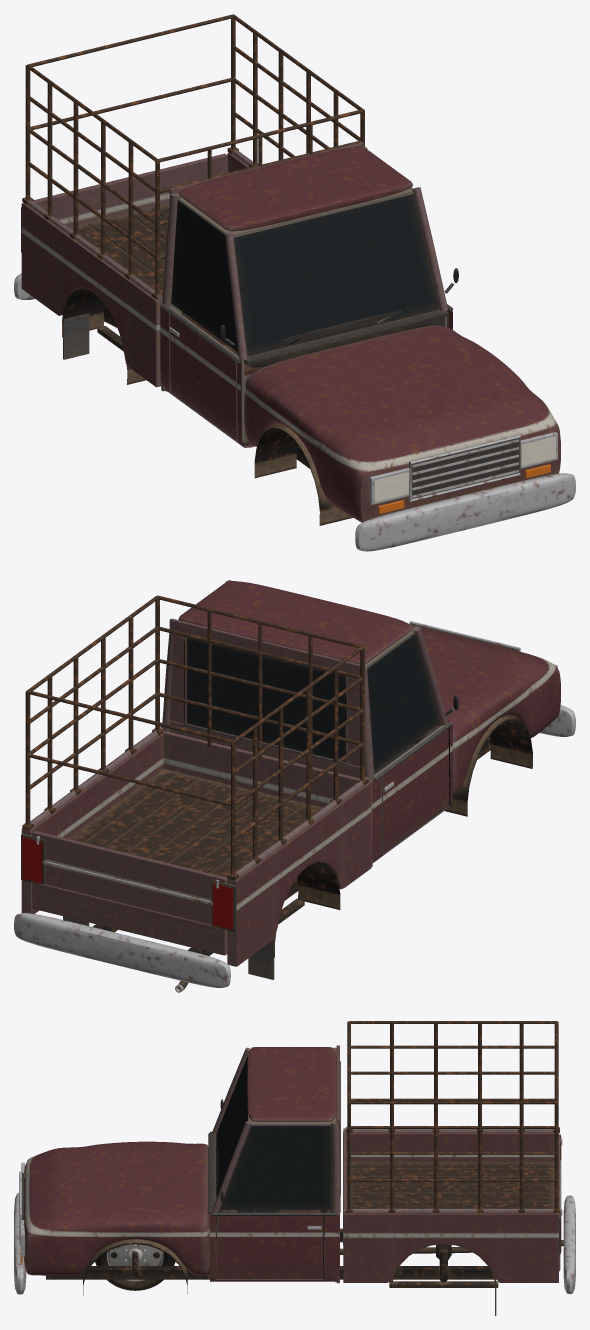
File: PickupV2.fbx
3 renders of one model, top to bottom at view 1: azimuth 30°, elevation 25°; view 2: azimuth 150°, elevation 25°; view 3: azimuth 270°, elevation 25°, orthographic. The views are drawn at different scales.
Visible parts, largest first — view 1: PickupBody, PickupGlass, PickupRack, PickupInterior; view 2: PickupBody, PickupRack, PickupGlass, PickupInterior; view 3: PickupBody, PickupRack, PickupGlass, PickupWheel, PickupInterior.
Part boxes in pixels (x1,y1,x2,y2): PickupBody: (14,142,575,551); PickupGlass: (171,191,439,356); PickupRack: (22,14,364,299); PickupInterior: (165,188,447,446); PickupBody: (14,580,575,992); PickupRack: (22,595,368,880); PickupGlass: (186,630,440,771); PickupInterior: (365,630,444,780); PickupBody: (14,1045,575,1315); PickupRack: (345,1021,559,1213); PickupGlass: (216,1055,331,1209); PickupWheel: (95,1244,175,1290); PickupInterior: (211,1053,336,1282).
Bounding box in the file's own units: 238 × 270 × 607.
5 materials, 5 textured.
